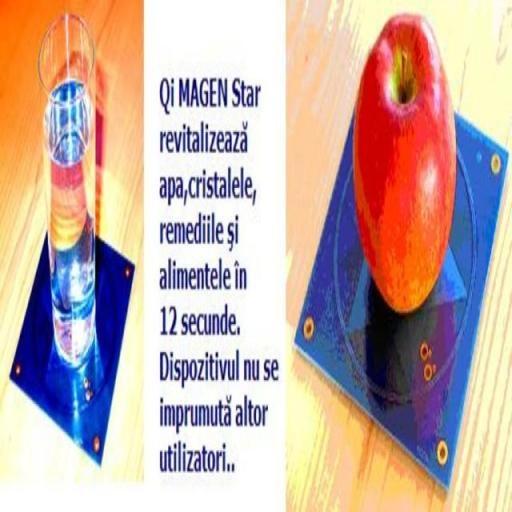fruit: (354, 15, 455, 312)
